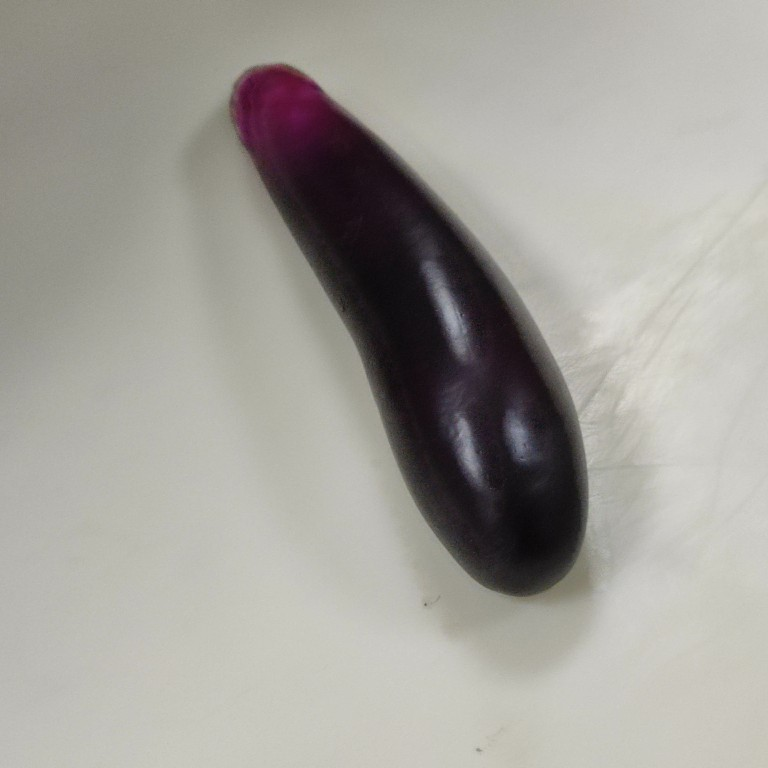fruit_eggplant: (224, 57, 590, 600)
